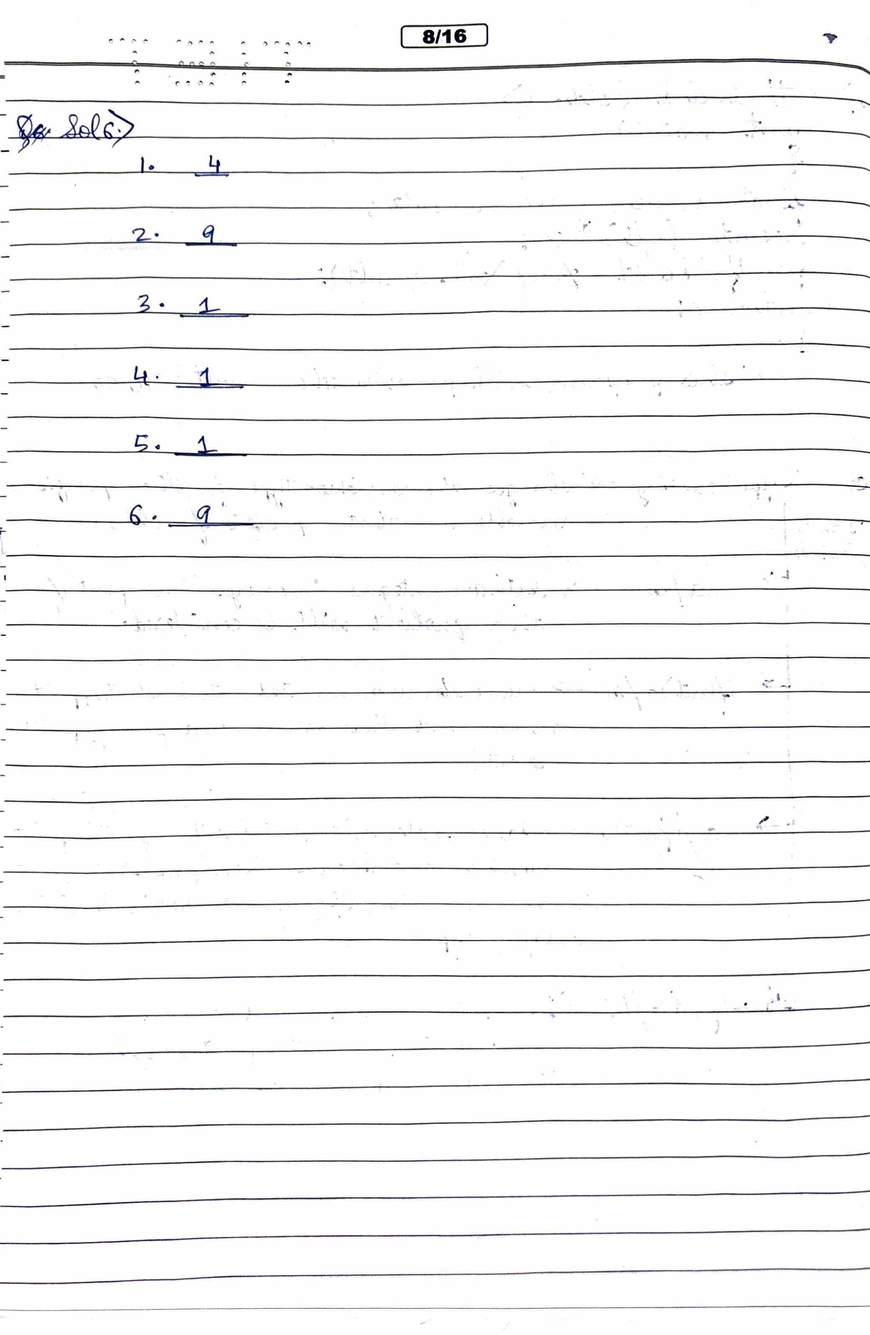cuttings: (16, 113, 52, 155)
